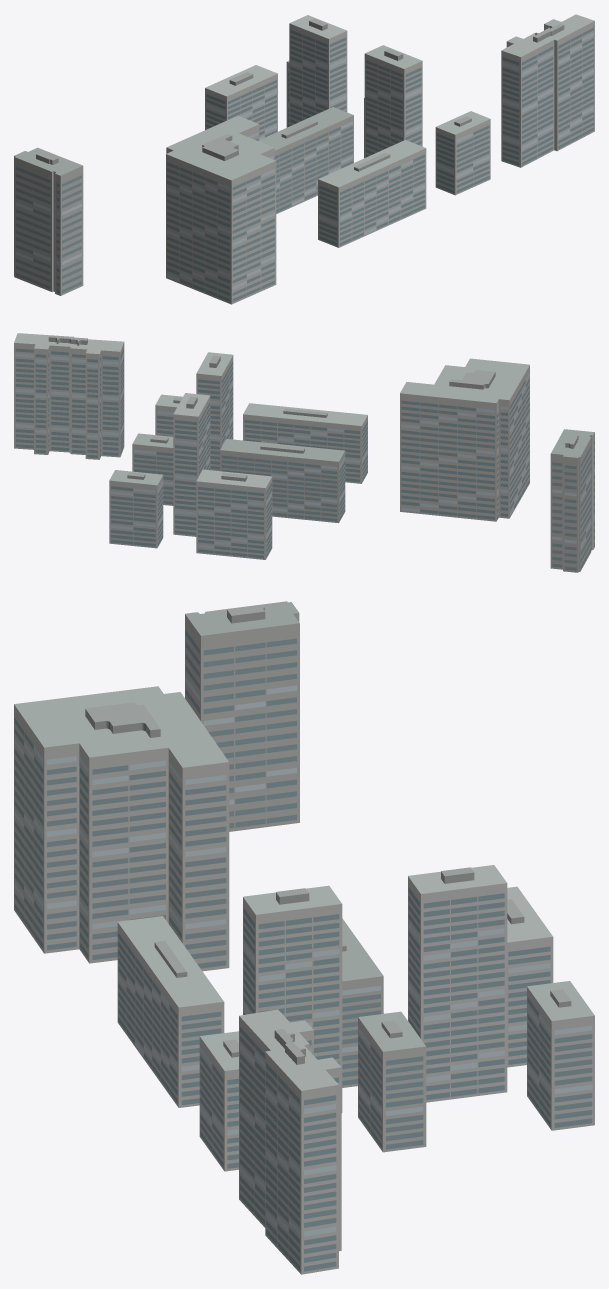
The model's file is apt-a13509005.glb.
3 renders of one model, top to bottom at view 1: azimuth 30°, elevation 25°; view 2: azimuth 150°, elevation 25°; view 3: azimuth 270°, elevation 25°, orthographic. The views are drawn at different scales.
Parts seen in each view (by area): view 1: apt-a13509005; view 2: apt-a13509005; view 3: apt-a13509005.
Boxes of the visible parts, <box> form: apt-a13509005: <box>14,14,594,304</box>; apt-a13509005: <box>14,333,594,572</box>; apt-a13509005: <box>14,601,594,1274</box>.
Bounding box in the file's own units: 319 × 68 × 165.
